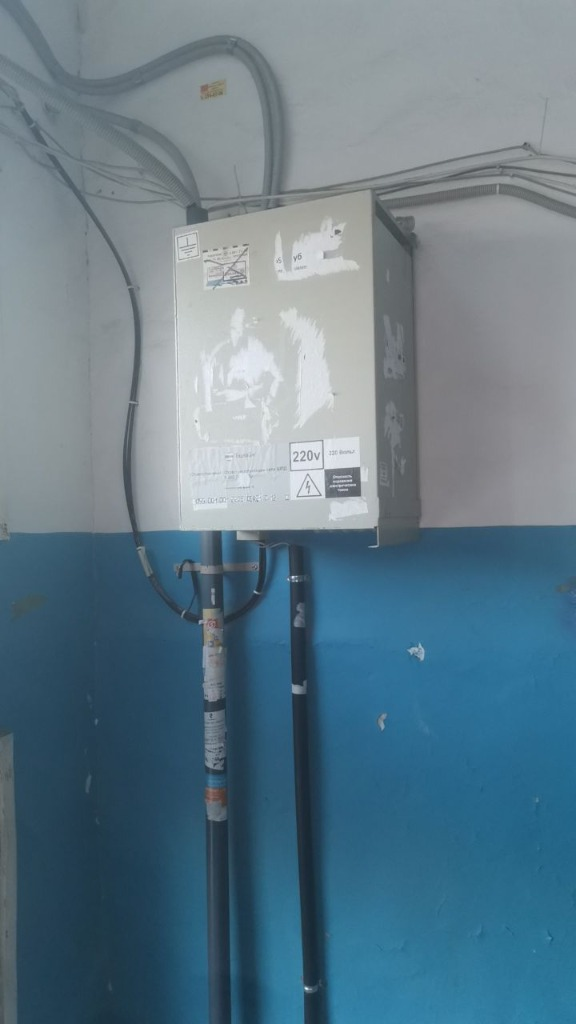sv-5: (165, 183, 432, 553)
